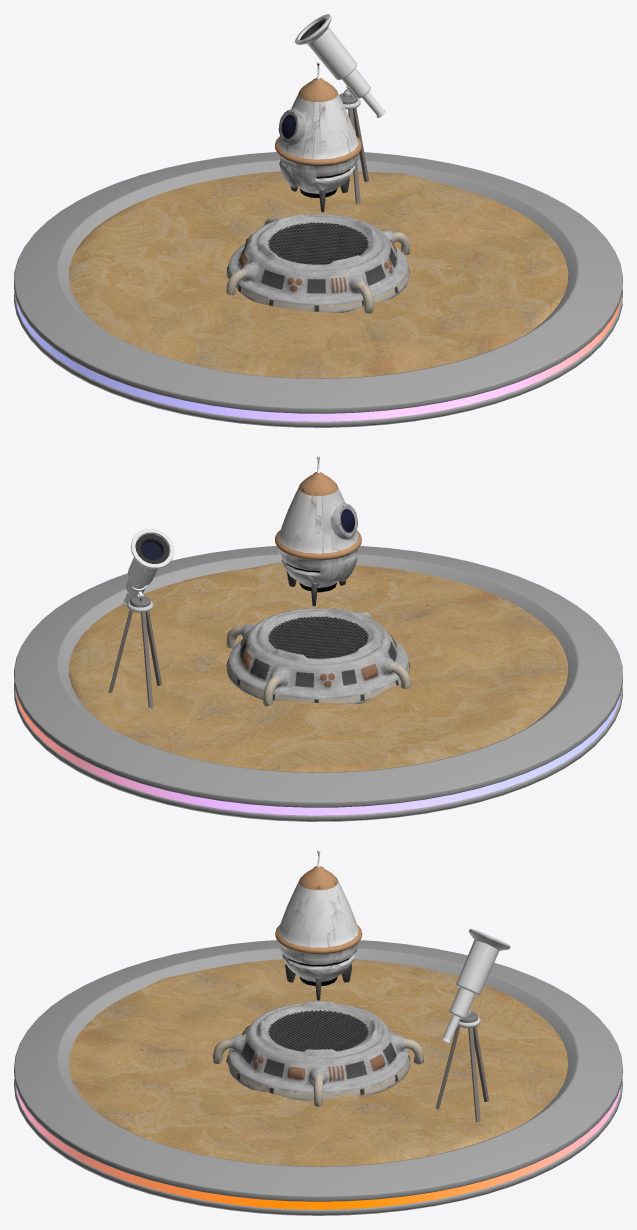
File: musecraft.gltf
3 renders of one model, top to bottom at view 1: azimuth 30°, elevation 25°; view 2: azimuth 150°, elevation 25°; view 3: azimuth 270°, elevation 25°, orthographic.
Parts seen in each view (by area): view 1: sandbox, platform, rocket, telescope; view 2: sandbox, platform, rocket, telescope; view 3: sandbox, platform, rocket, telescope.
Boxes of the visible parts, x1,y1,x2,y2 form: sandbox: (14, 152, 622, 427); platform: (226, 214, 410, 313); rocket: (275, 62, 361, 212); telescope: (295, 14, 385, 203); sandbox: (14, 546, 622, 821); platform: (226, 608, 410, 706); rocket: (275, 456, 361, 606); telescope: (108, 529, 174, 708); sandbox: (14, 940, 622, 1215); platform: (213, 1000, 423, 1106); rocket: (275, 850, 362, 1000); telescope: (435, 929, 510, 1122).
Bounding box in the file's own units: 12 × 5.28 × 12.
